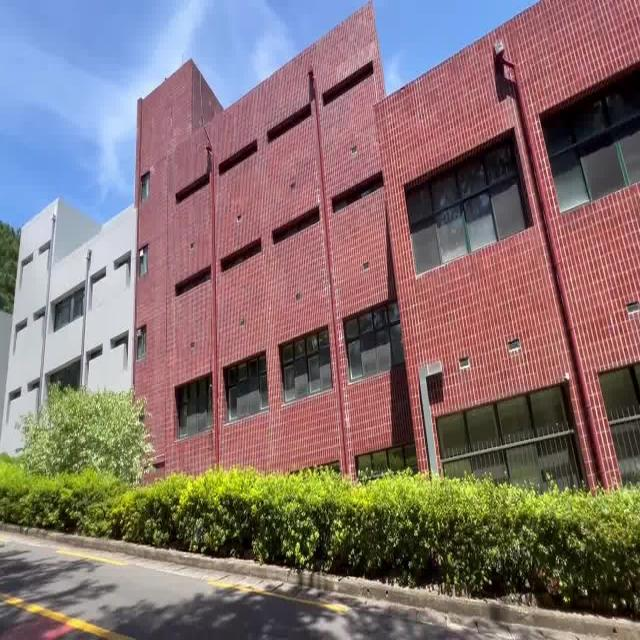building: (39, 4, 636, 402)
